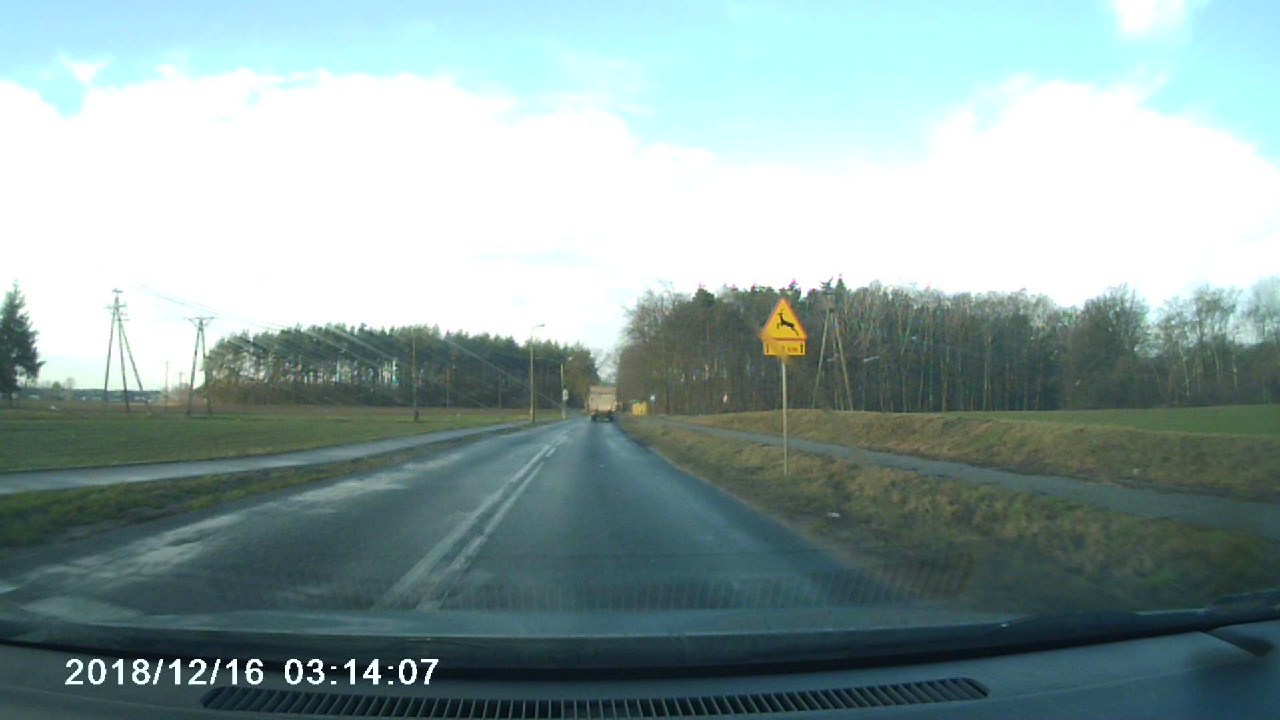A18b: (760, 297, 808, 341)
